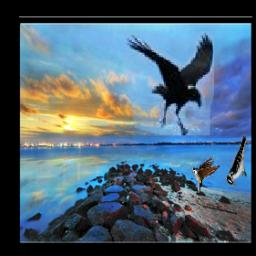Crow: (123, 31, 214, 135)
Swallow: (192, 156, 220, 194)
Woodpecker: (226, 134, 248, 187)
